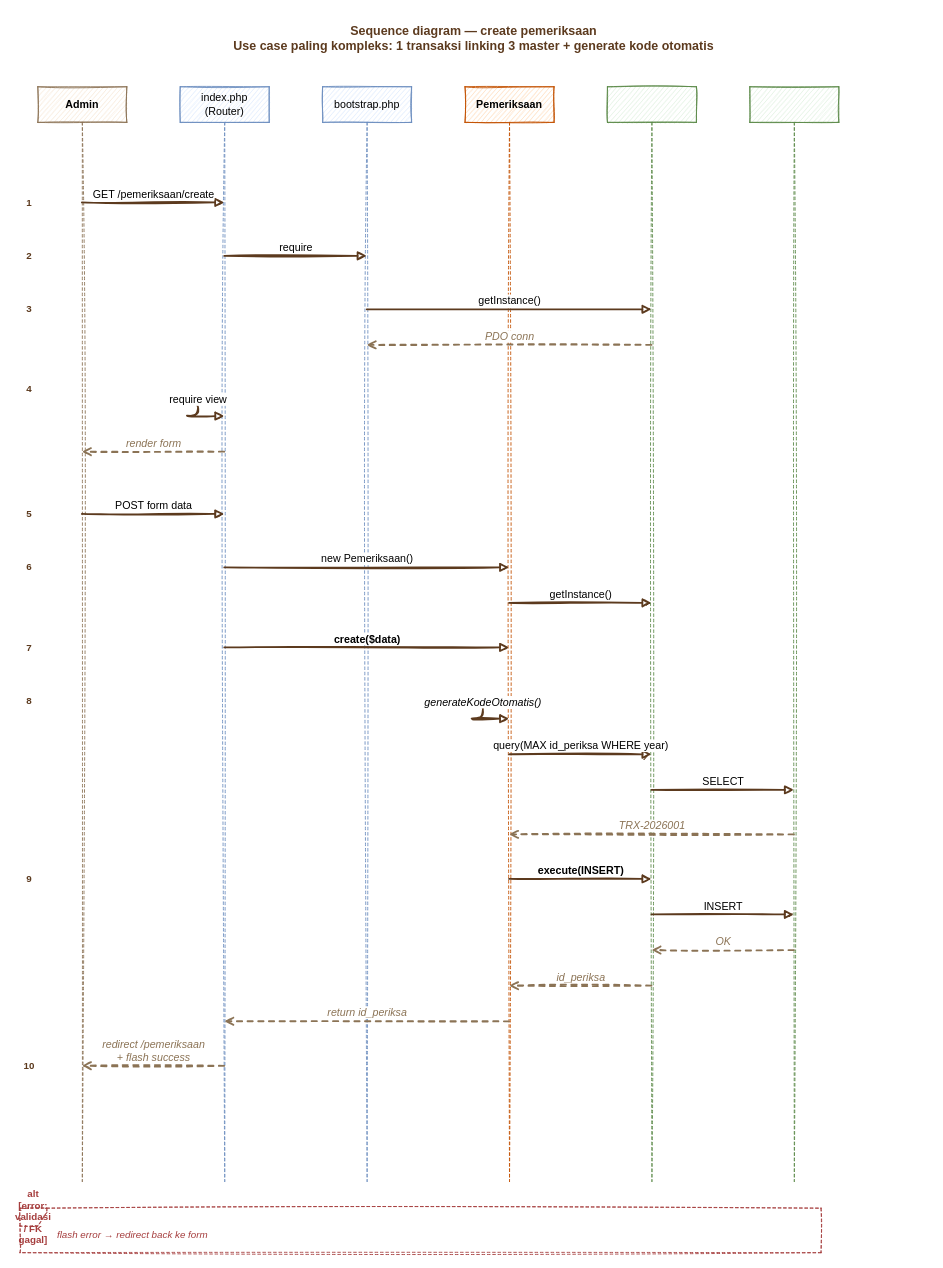
Image size: 943x1268. Some labels were removed from this diagram. The shapes that lost their labels are listed below. From the top down, each one's box as (x1, y1, x2, y2) in pixels, then its label:
(607, 86, 696, 1181): Database (PDO)
(749, 86, 839, 1181): MariaDB
